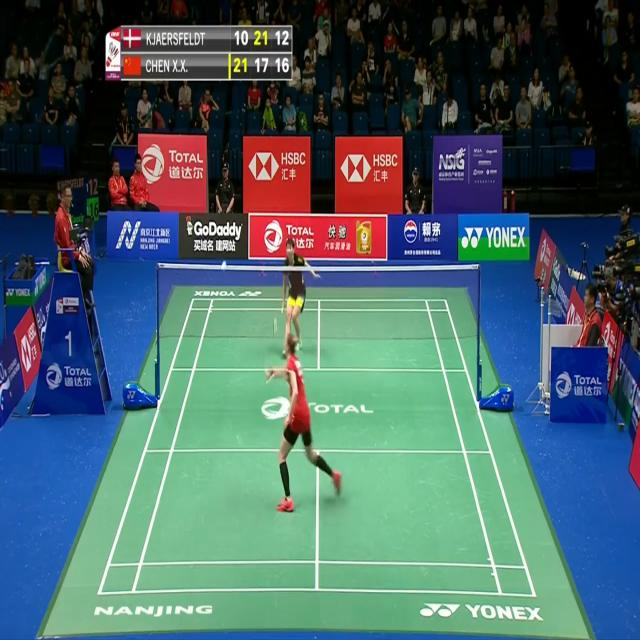Player1: (260, 332, 350, 518)
Player2: (264, 225, 324, 364)
